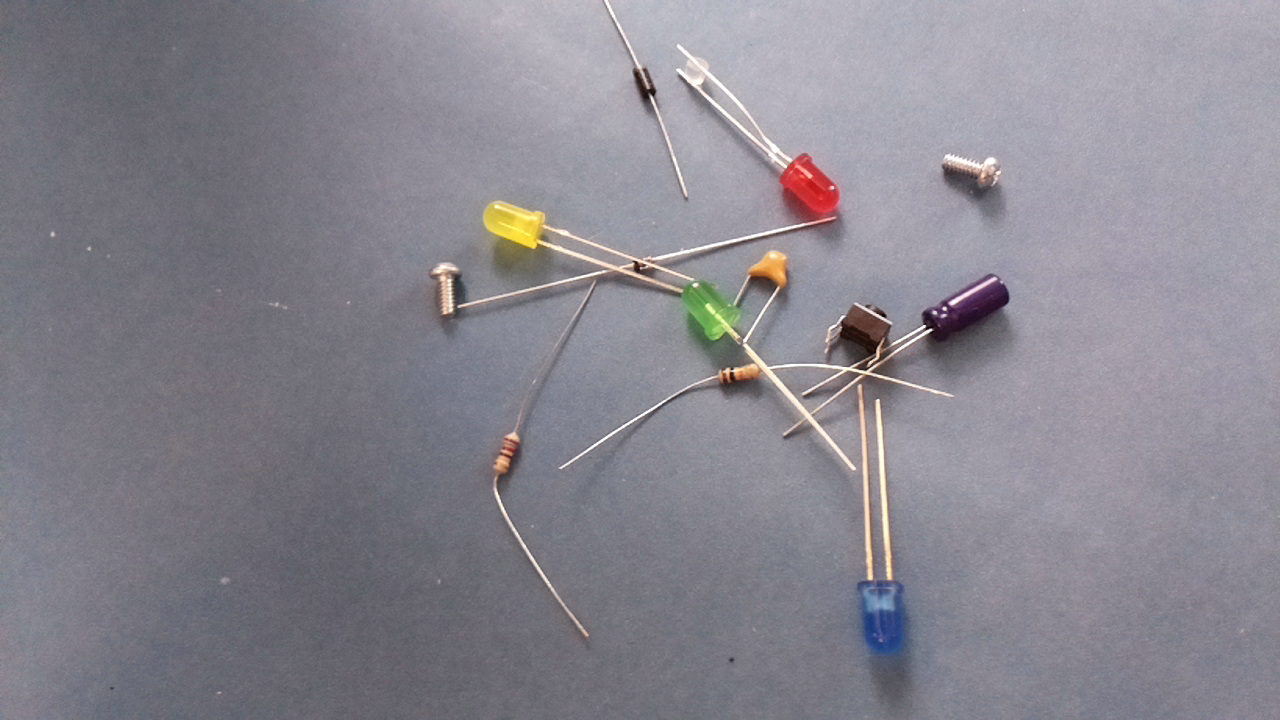button: (839, 301, 894, 354)
capacitor: (918, 270, 1013, 343), (743, 248, 789, 292)
diode: (629, 63, 660, 104), (626, 253, 662, 274)
led: (854, 579, 911, 659), (777, 151, 843, 218), (679, 278, 743, 343), (479, 198, 548, 256)
resistor: (488, 430, 523, 478), (714, 362, 763, 387)
